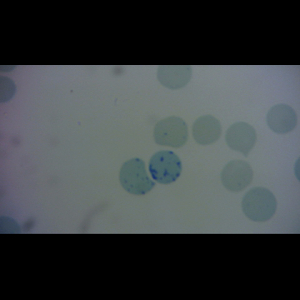aggregate reticulocyte: (148, 149, 184, 185)
erythrocyte: (224, 119, 259, 158), (219, 157, 255, 193), (191, 113, 224, 147), (264, 102, 297, 134)
punctate reticulocyte: (118, 157, 158, 196), (241, 187, 278, 224), (152, 116, 190, 150)
